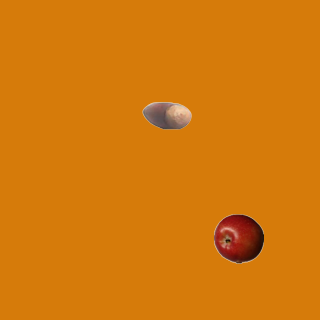Apple Braeburn: (213, 213, 263, 263)
Hazelnut: (141, 90, 191, 140)
